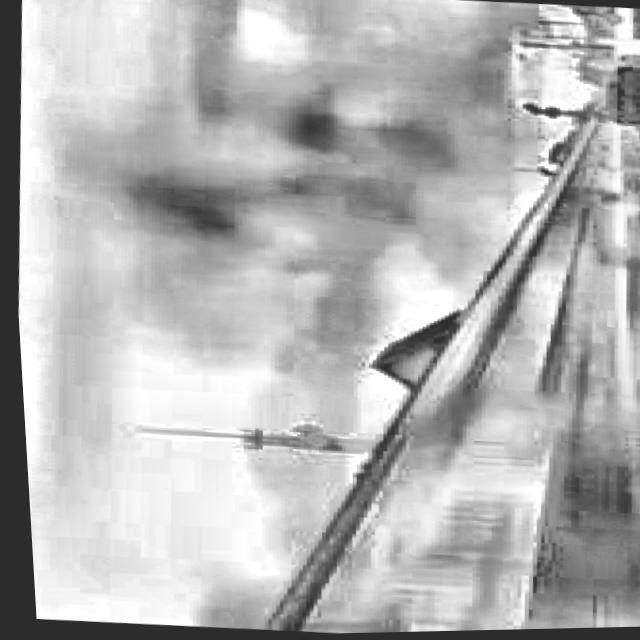Kereta: (366, 244, 640, 496), (481, 177, 640, 298), (538, 113, 640, 205)
Lokomotif: (19, 397, 640, 640)
